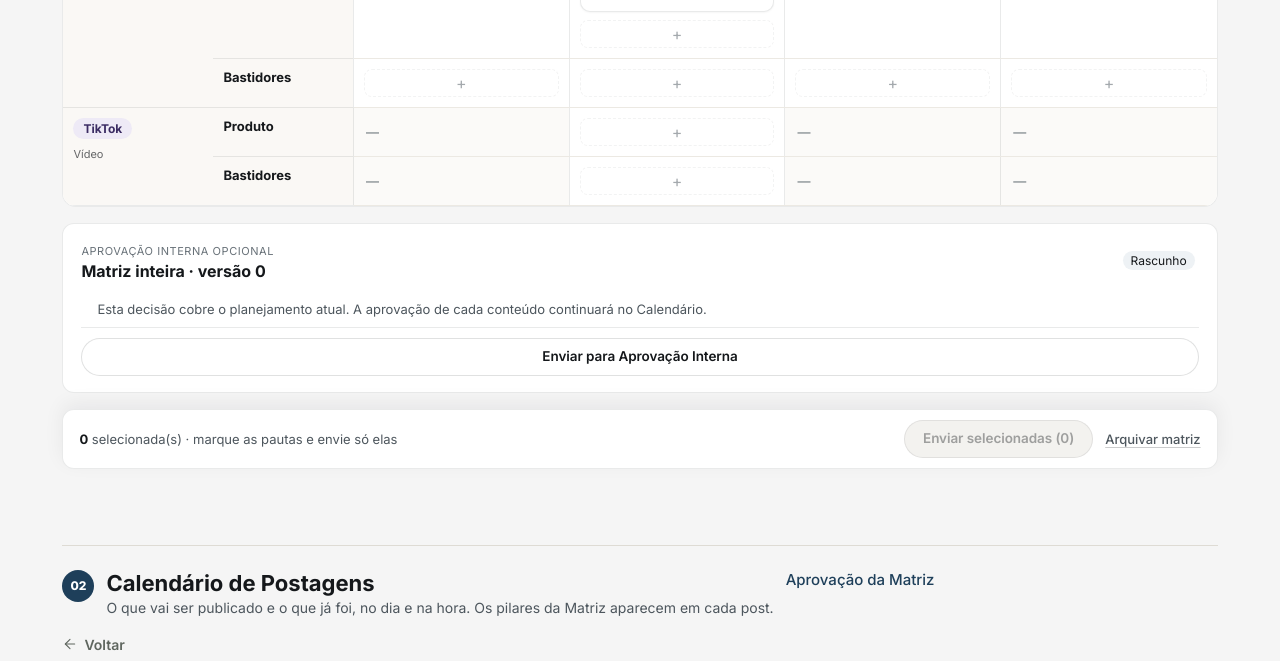
Social Media: Matriz de conteúdo › envia a matriz inteira e permite decisão somente ao aprovador
(page scrolled)
Click the button "Enviar para Aprovação Interna" at (640,356), box [81,338,1199,376]
(page scrolled)
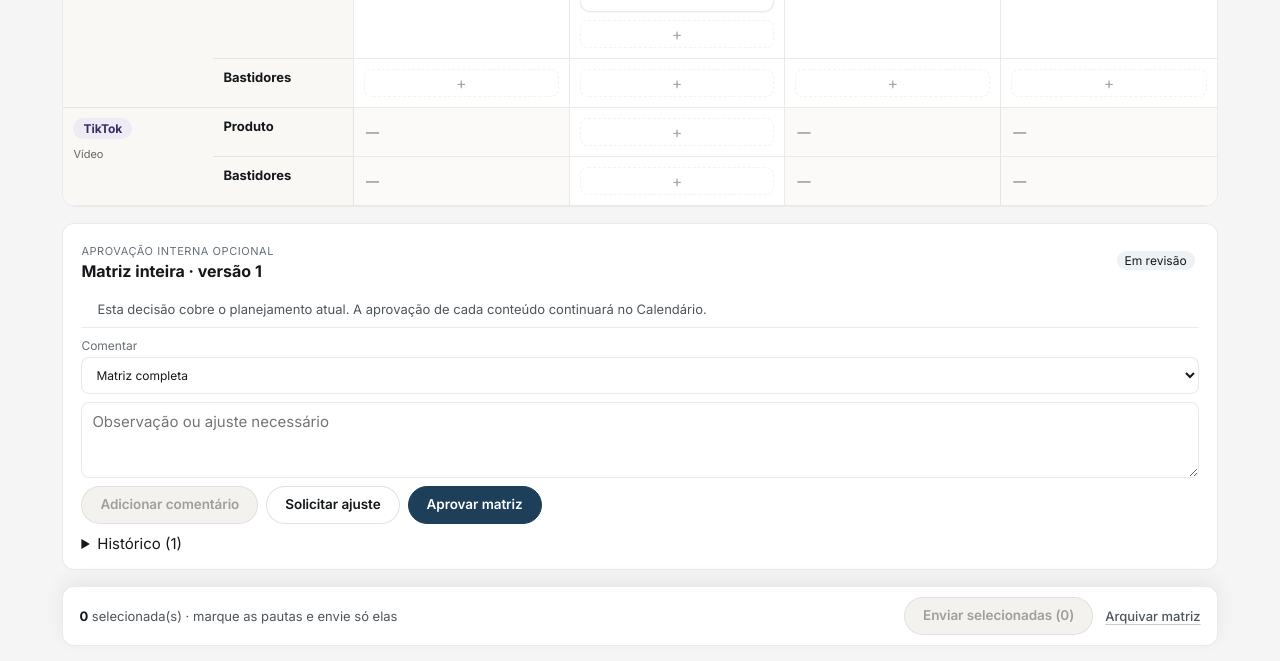
Expected: the text "Em revisão" is shown, [1116,250,1195,270]
Click the button "Aprovar matriz" at (475,504), box [408,486,542,524]
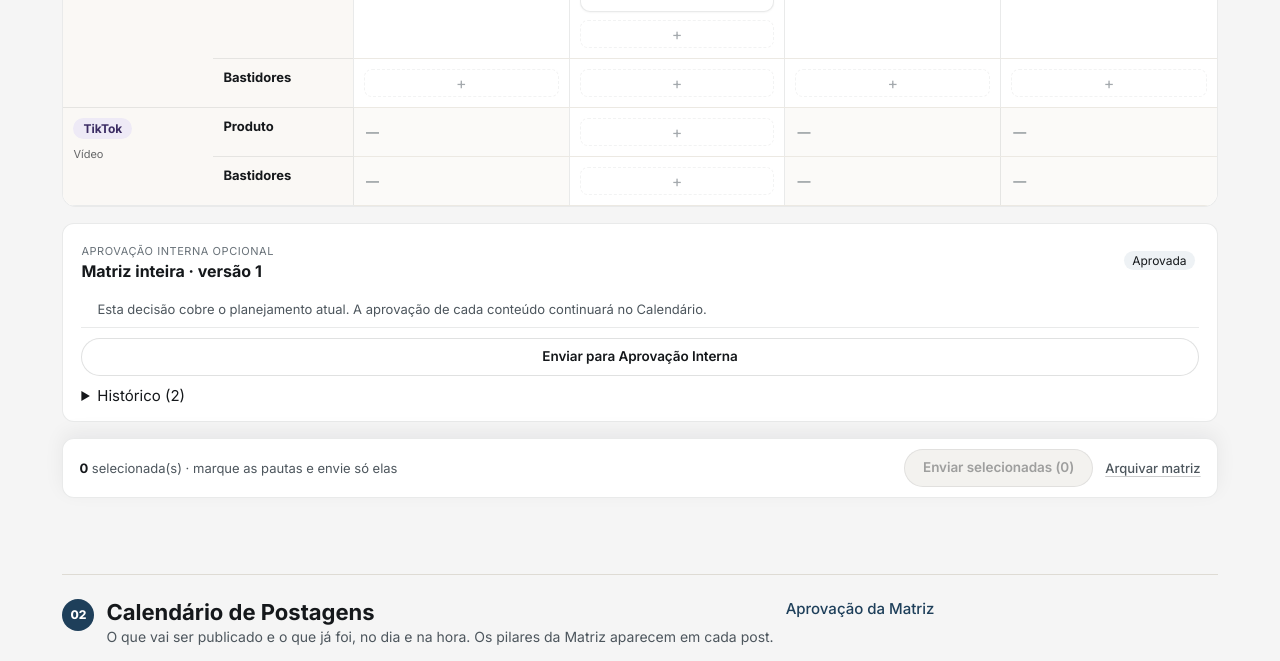
Expected: the text "Aprovada" is shown, [1124,250,1195,270]
